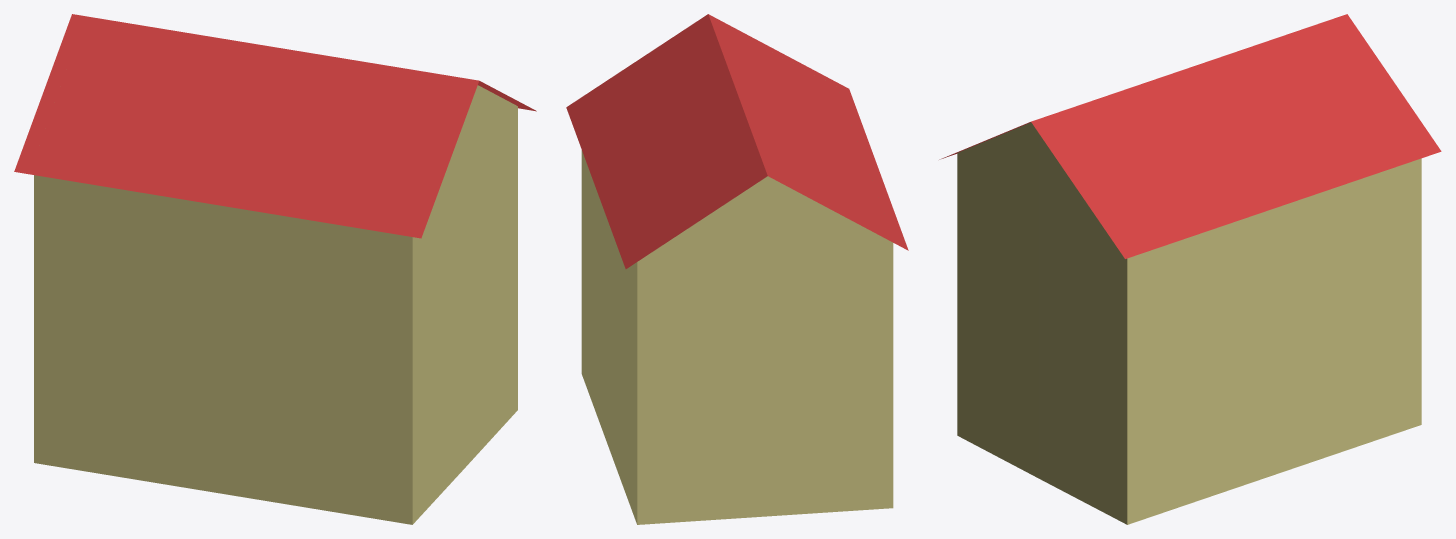
3 renders of one model, left to right at view 1: azimuth 30°, elevation 25°; view 2: azimuth 150°, elevation 25°; view 3: azimuth 270°, elevation 25°, orthographic. The views are drawn at different scales.
Size of the model in its own units: 8.53 by 8.81 by 6.98.
